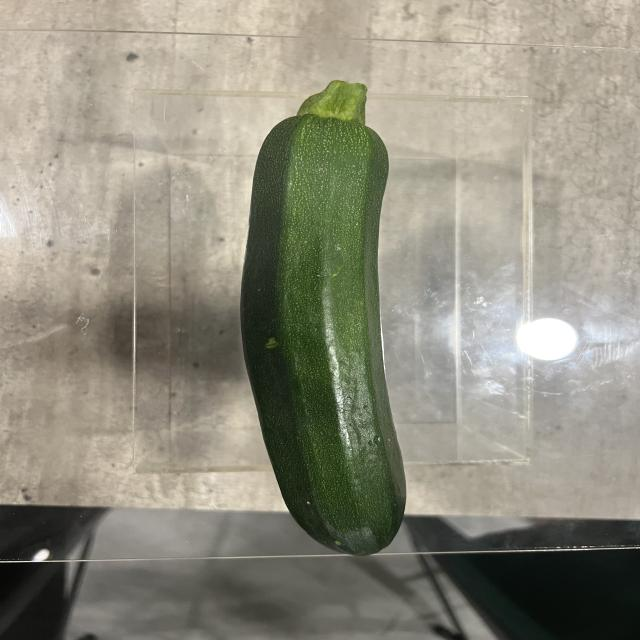zucchini: (240, 77, 408, 555)
